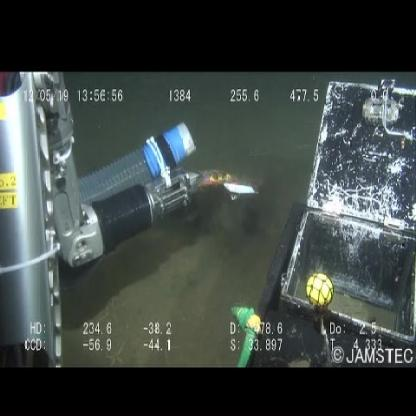Rov: (1, 72, 205, 368), (267, 73, 415, 362)
Rác: (195, 163, 263, 211)
